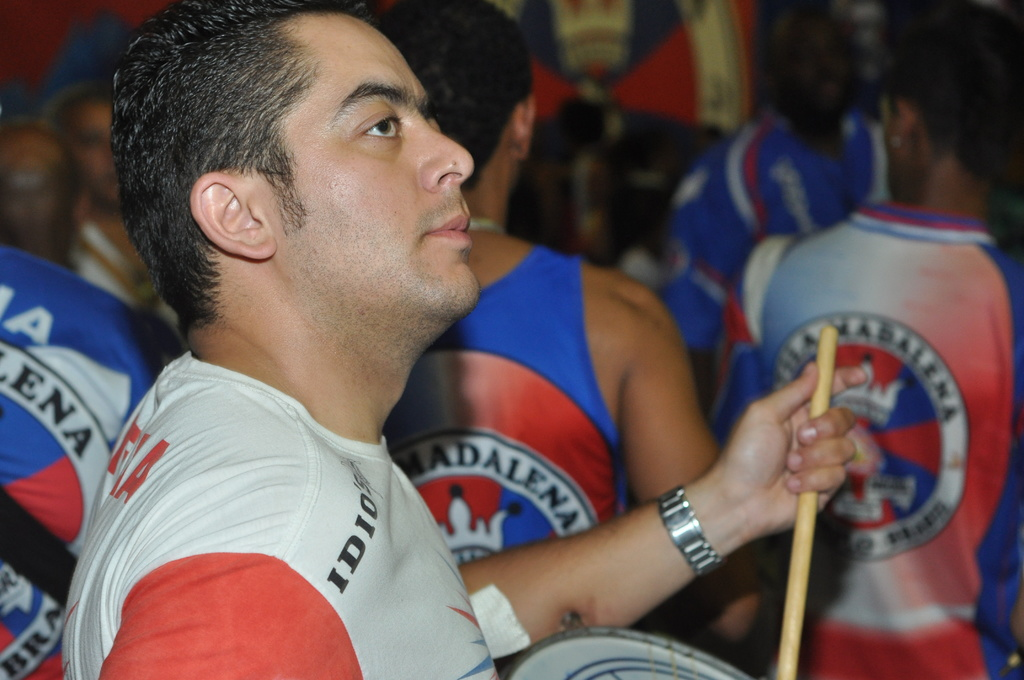person: (660, 1, 884, 418)
